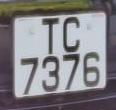3: (39, 55, 64, 94)
6: (81, 49, 103, 91)
7: (18, 53, 41, 99), (61, 53, 83, 93)
C: (60, 14, 85, 57)
T: (37, 14, 65, 60)
